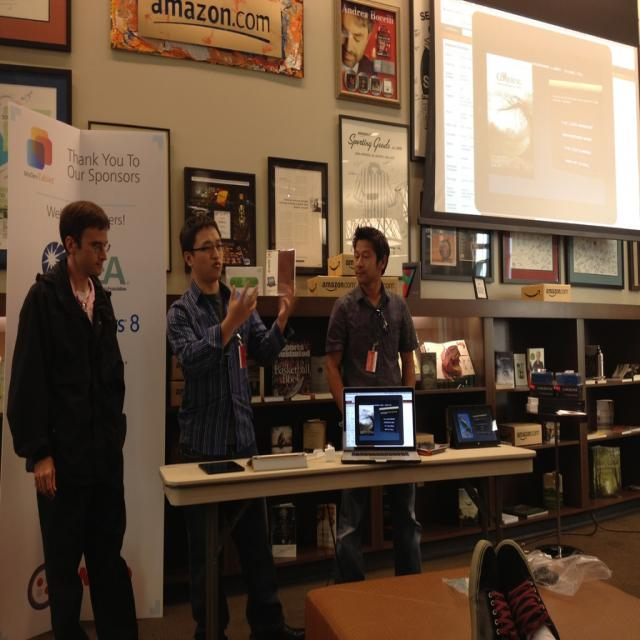chair: (469, 538, 560, 640)
desk: (308, 554, 640, 639)
laptop: (343, 388, 420, 462), (447, 406, 503, 449)
person: (6, 198, 140, 638), (164, 213, 300, 637), (325, 212, 421, 583)
